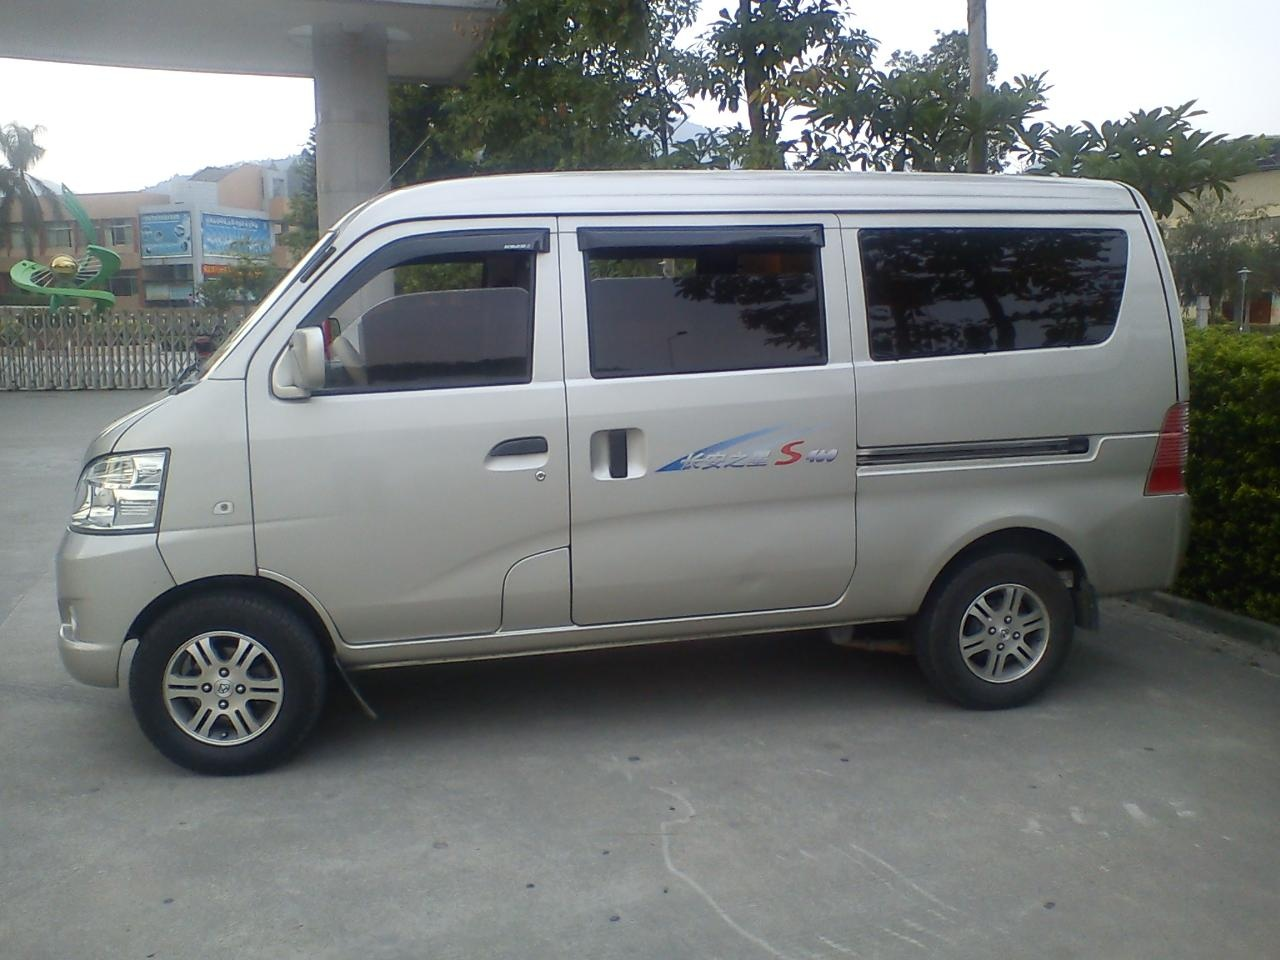minibus: (70, 150, 1206, 773)
